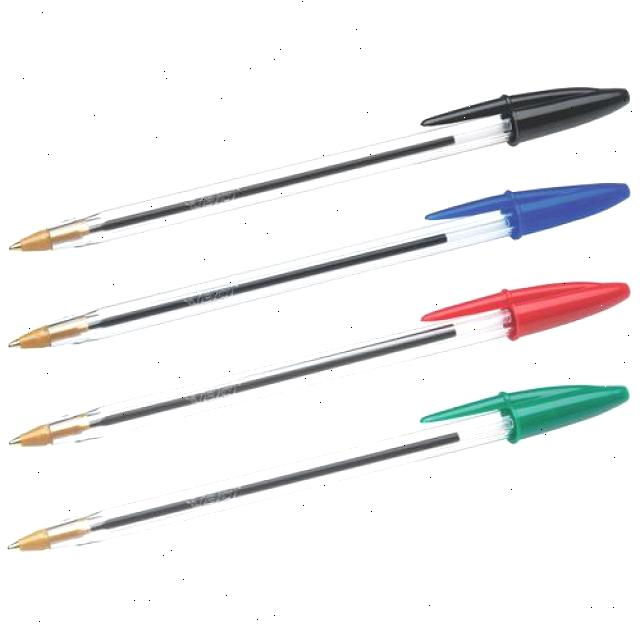pen: (5, 179, 631, 351), (5, 381, 630, 553), (6, 84, 631, 254), (6, 278, 631, 448)
